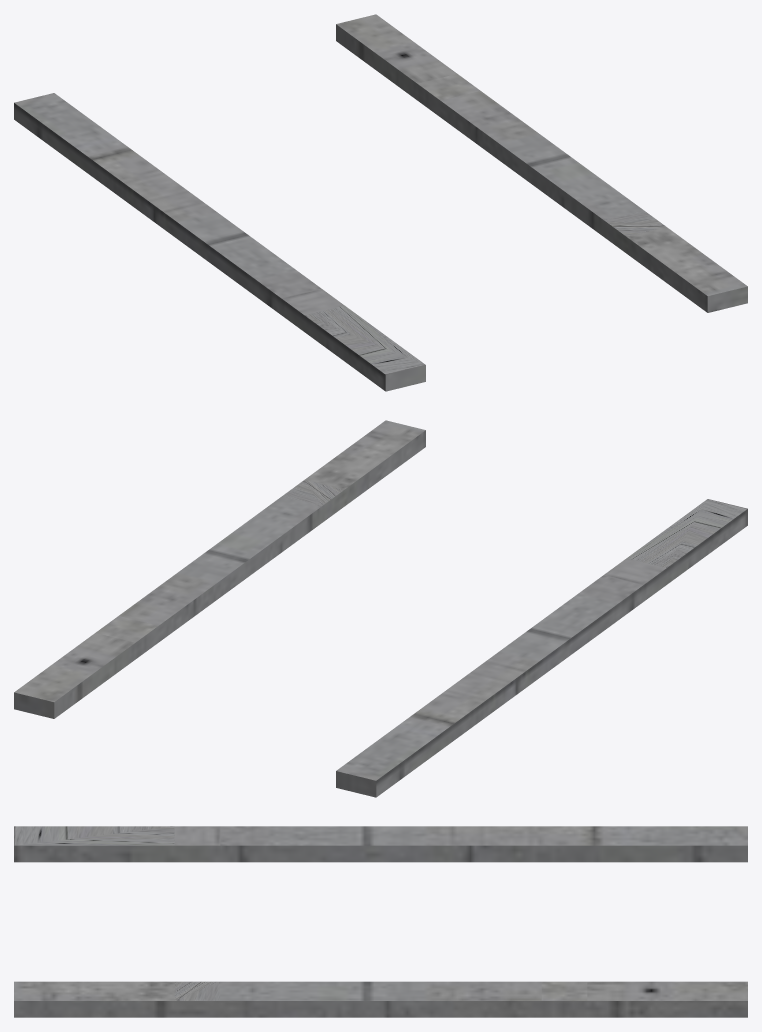
File: Scaffolding5.fbx
The picture shows the model from 3 angles, top to bottom: view 1: azimuth 30°, elevation 25°; view 2: azimuth 150°, elevation 25°; view 3: azimuth 270°, elevation 25°; orthographic projection.
Visible parts, largest first — view 1: Cube.001; view 2: Cube.001; view 3: Cube.001.
Boxes of the visible parts, x1=… form: Cube.001: x1=14, y1=14, x2=747, y2=391; Cube.001: x1=14, y1=420, x2=747, y2=797; Cube.001: x1=14, y1=826, x2=747, y2=1017.
Bounding box in the file's own units: 112 × 5 × 200.
